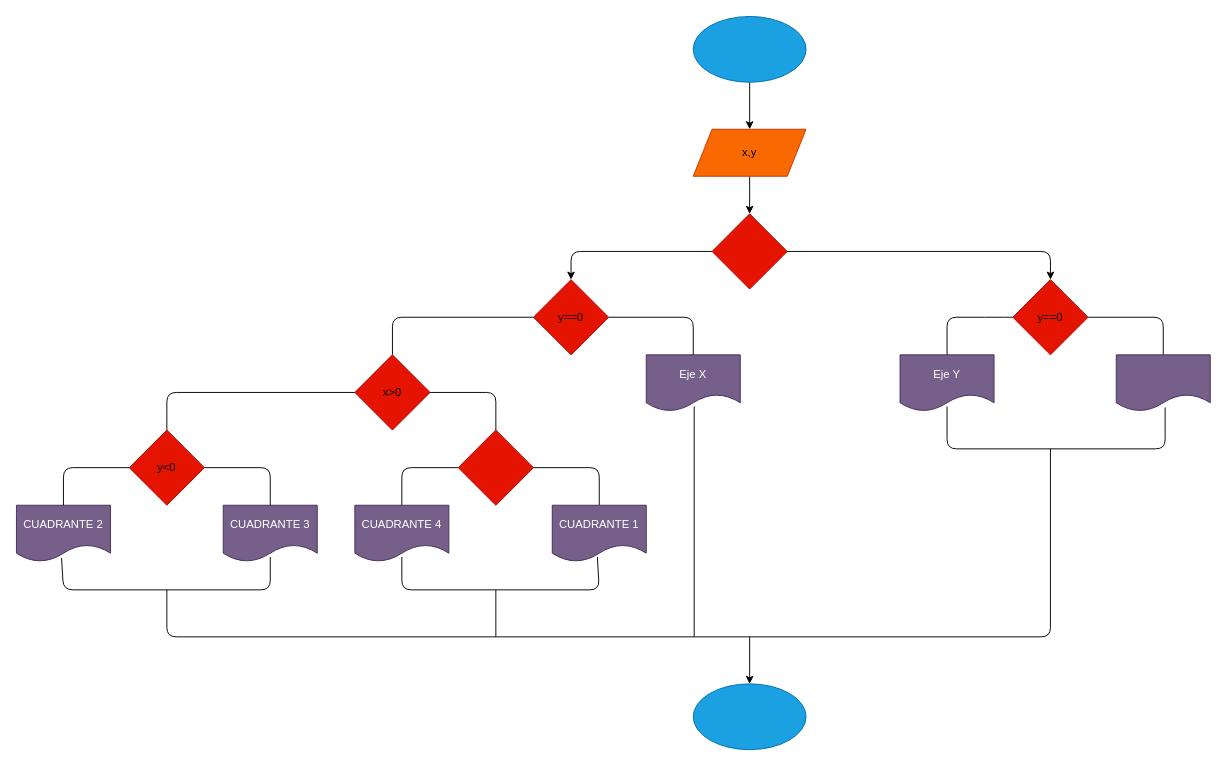
Image size: 1227x766. Some labels were removed from this diagram. Here are the shapes that lost their labels. From the top down, the centre of each, then its label:
the point at 749,49: INICIO
the point at 749,251: x==0
the point at 1162,382: ORIGEN
the point at 495,467: y>0
the point at 749,716: FIN
